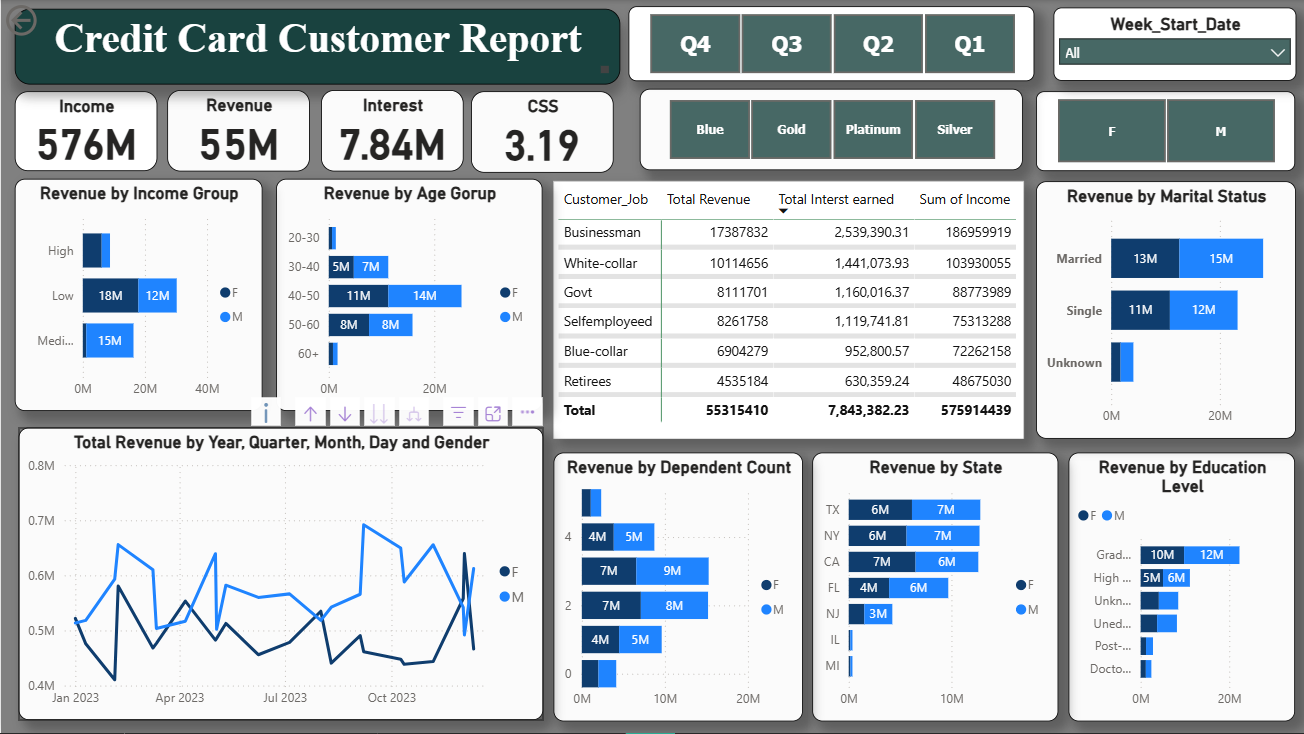

What the dashboard file says about the page in this screenshot:
{"tool":"powerbi","page":{"name":"Credit Card Customer Report","canvas":[1280,720],"ordinal":1},"visuals":[{"type":"card","title":"Income","fields":{"Values":["Sum(customer.Income)"]},"box":[14,90,140,78],"z":0},{"type":"card","title":"Revenue","fields":{"Values":["Measure.Total Revenue"]},"box":[163.8,88.9,140,80],"z":1000},{"type":"textbox","title":"Credit Card Customer Report","box":[14,8,594,74],"z":2000},{"type":"slicer","fields":{"Values":["customer.Gender"]},"box":[1016,90,254,78],"z":3000},{"type":"slicer","fields":{"Values":["credit_card.Qtr"]},"box":[616.2,6.2,398.8,73.8],"z":4000},{"type":"slicer","title":"Week_Start_Date","fields":{"Values":["credit_card.Week_Start_Date"]},"box":[1032.6,7,238.4,72.1],"z":5000},{"type":"slicer","fields":{"Values":["credit_card.Card_Category"]},"box":[627.5,87.5,376.2,80],"z":6000},{"type":"card","title":"Interest","fields":{"Values":["Measure.Total Interst earned"]},"box":[313.6,88.9,140,80],"z":7000},{"type":"pivotTable","fields":{"Rows":["customer.Customer_Job"],"Values":["Measure.Total Revenue","Measure.Total Interst earned","Sum(customer.Income)"]},"box":[542.5,177.5,461.2,252.5],"z":8000},{"type":"barChart","title":"Revenue by Education Level","fields":{"Y":["Measure.Total Revenue"],"Category":["customer.Education_Level"],"Series":["customer.Gender"]},"box":[1047.5,443.8,222.5,263.8],"z":9000},{"type":"barChart","title":"Revenue by Marital Status ","fields":{"Y":["Measure.Total Revenue"],"Category":["customer.Marital_Status"],"Series":["customer.Gender"]},"box":[1016.2,177.5,255,252.5],"z":10000},{"type":"barChart","title":"Revenue by State","fields":{"Y":["Measure.Total Revenue"],"Category":["customer.state_cd"],"Series":["customer.Gender"]},"box":[796.9,443.8,241.2,263.8],"z":11000},{"type":"card","title":"CSS","fields":{"Values":["Measure.CSS"]},"box":[461.2,90,140,80],"z":12000},{"type":"barChart","title":"Revenue by Dependent Count","fields":{"Y":["Measure.Total Revenue"],"Category":["customer.Dependent_Count"],"Series":["customer.Gender"]},"box":[542.5,443.8,245,263.8],"z":13000},{"type":"barChart","title":"Revenue by Age Gorup","fields":{"Y":["Measure.Total Revenue"],"Series":["customer.Gender"],"Category":["customer.Age Group"]},"box":[269.9,175.5,261.4,228.2],"z":14000},{"type":"barChart","title":"Revenue by Income Group ","fields":{"Y":["Measure.Total Revenue"],"Series":["customer.Gender"],"Category":["customer.Income group"]},"box":[13.5,175.5,242.9,228.2],"z":15000},{"type":"lineChart","fields":{"Y":["Measure.Total Revenue"],"Series":["customer.Gender"],"Category":["credit_card.Week_Start_Date.Variation.Date Hierarchy.Year","credit_card.Week_Start_Date.Variation.Date Hierarchy.Quarter","credit_card.Week_Start_Date.Variation.Date Hierarchy.Month","credit_card.Week_Start_Date.Variation.Date Hierarchy.Day"]},"box":[17.5,420,515,287.5],"z":16000},{"type":"actionButton","box":[0,0,100,40],"z":17000}]}

Visuals, with their boxes in screenshot pixels (x1, y1, x2, y2), scaled from the page's 1280x720 canvas onto the 1304x734 screenshot:
"Income" card: locate(14, 92, 157, 171)
"Revenue" card: locate(167, 91, 309, 172)
"Credit Card Customer Report" textbox: locate(14, 8, 619, 84)
slicer - customer.Gender: locate(1035, 92, 1294, 171)
slicer - credit_card.Qtr: locate(628, 6, 1034, 82)
"Week_Start_Date" slicer: locate(1052, 7, 1295, 81)
slicer - credit_card.Card_Category: locate(639, 89, 1023, 171)
"Interest" card: locate(319, 91, 462, 172)
pivotTable - customer.Customer_Job x Measure.Total Revenue: locate(553, 181, 1023, 438)
"Revenue by Education Level" barChart: locate(1067, 452, 1294, 721)
"Revenue by Marital Status " barChart: locate(1035, 181, 1295, 438)
"Revenue by State" barChart: locate(812, 452, 1058, 721)
"CSS" card: locate(470, 92, 612, 173)
"Revenue by Dependent Count" barChart: locate(553, 452, 802, 721)
"Revenue by Age Gorup" barChart: locate(275, 179, 541, 412)
"Revenue by Income Group " barChart: locate(14, 179, 261, 412)
lineChart - Measure.Total Revenue x customer.Gender: locate(18, 428, 542, 721)
actionButton: locate(0, 0, 102, 41)
